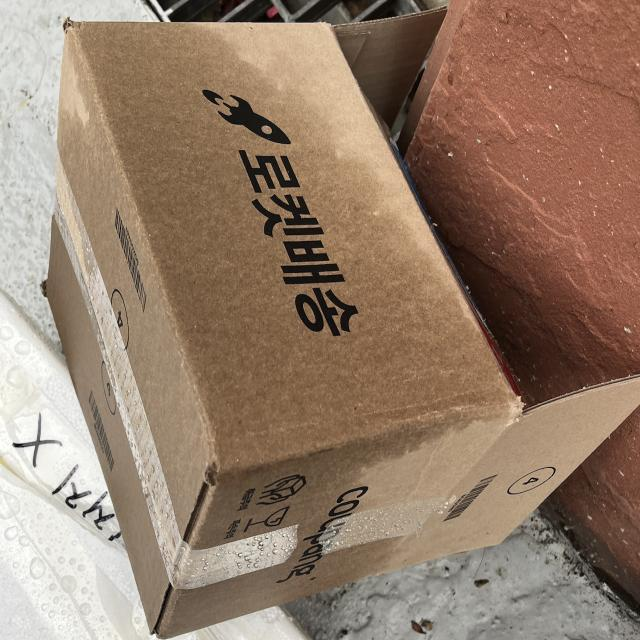wet: (34, 12, 458, 638)
